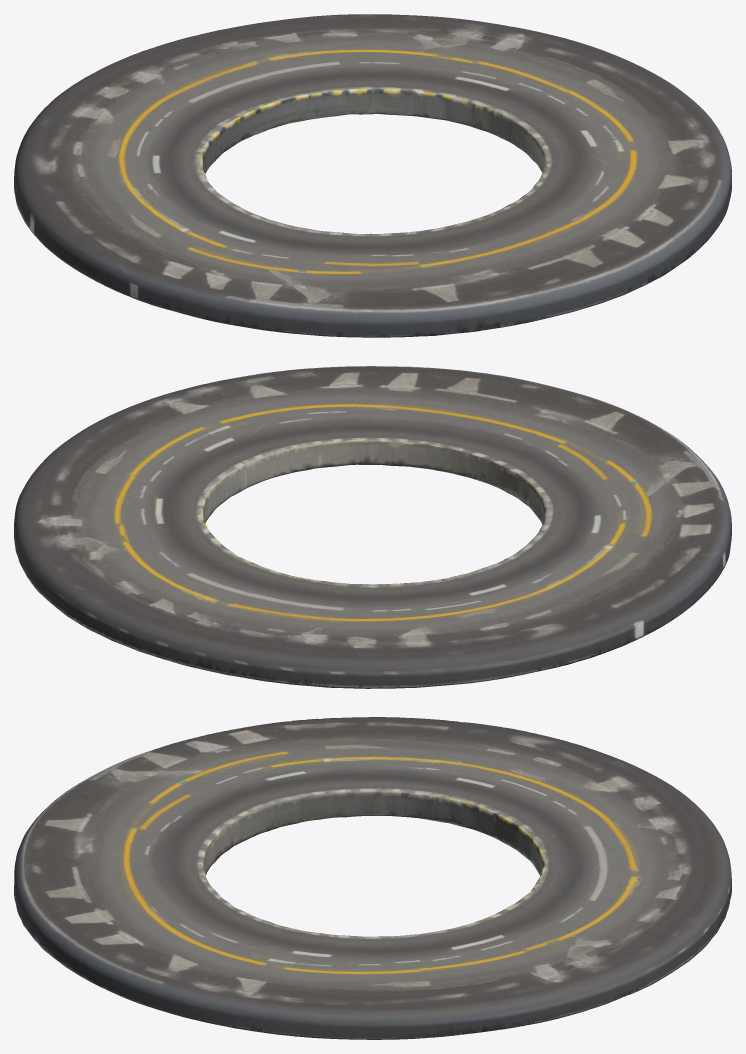
The model's file is AI_Road2LaneCurve.fbx.
3 views of the same model, one above another, from view 1: azimuth 30°, elevation 25°; view 2: azimuth 150°, elevation 25°; view 3: azimuth 270°, elevation 25° (orthographic).
Visible parts, largest first — view 1: Mesh_0; view 2: Mesh_0; view 3: Mesh_0.
Part boxes in pixels (left/top/right/bottom): Mesh_0: left=14, top=14, right=731, bottom=337; Mesh_0: left=14, top=366, right=731, bottom=688; Mesh_0: left=14, top=717, right=731, bottom=1039.
Size of the model in its own units: 200 by 7.78 by 200.
Materials: 1 (1 with a texture image).
